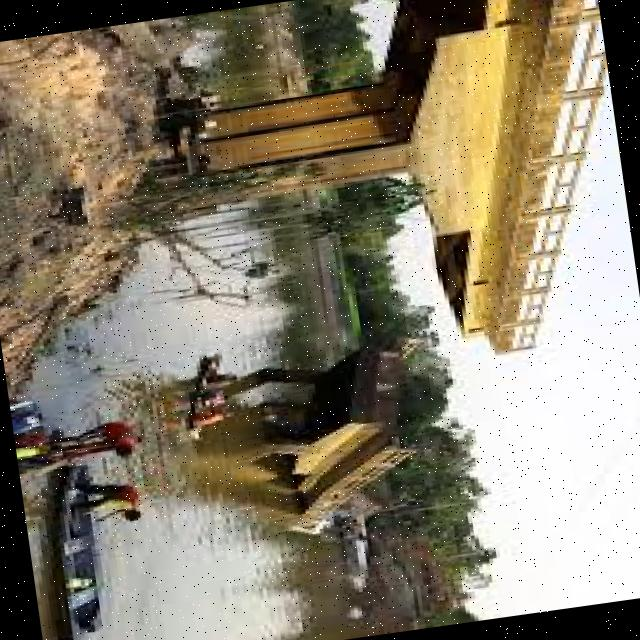bridge collapse: (160, 132, 640, 551)
